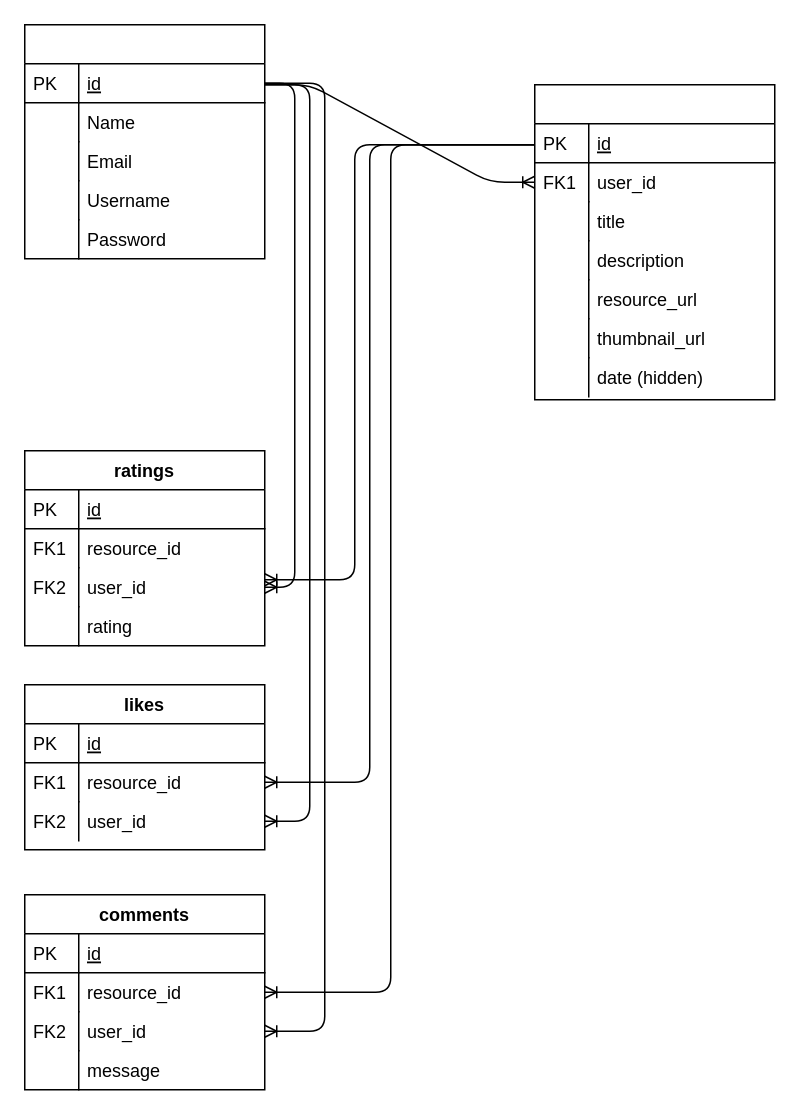
Some shapes in this 800 by 1115 pixel diagram are drawn without their labels. The box of each missing label's shape, as (x1, y1, x2, y2) in pixels:
resources: (533, 83, 775, 400)
users: (23, 23, 265, 259)
